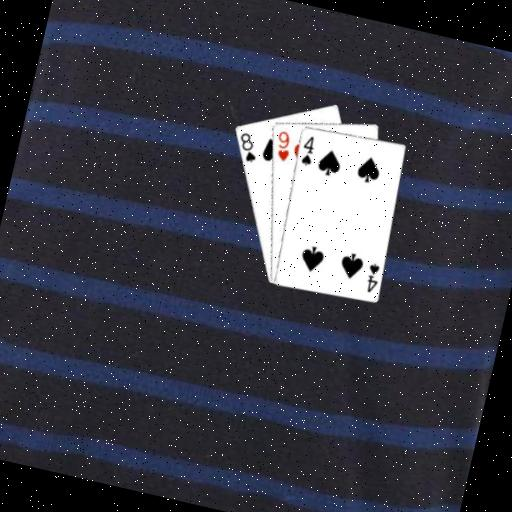4S: (295, 131, 318, 168), (361, 259, 383, 296)
8S: (232, 128, 263, 165)
9H: (269, 127, 295, 164)
